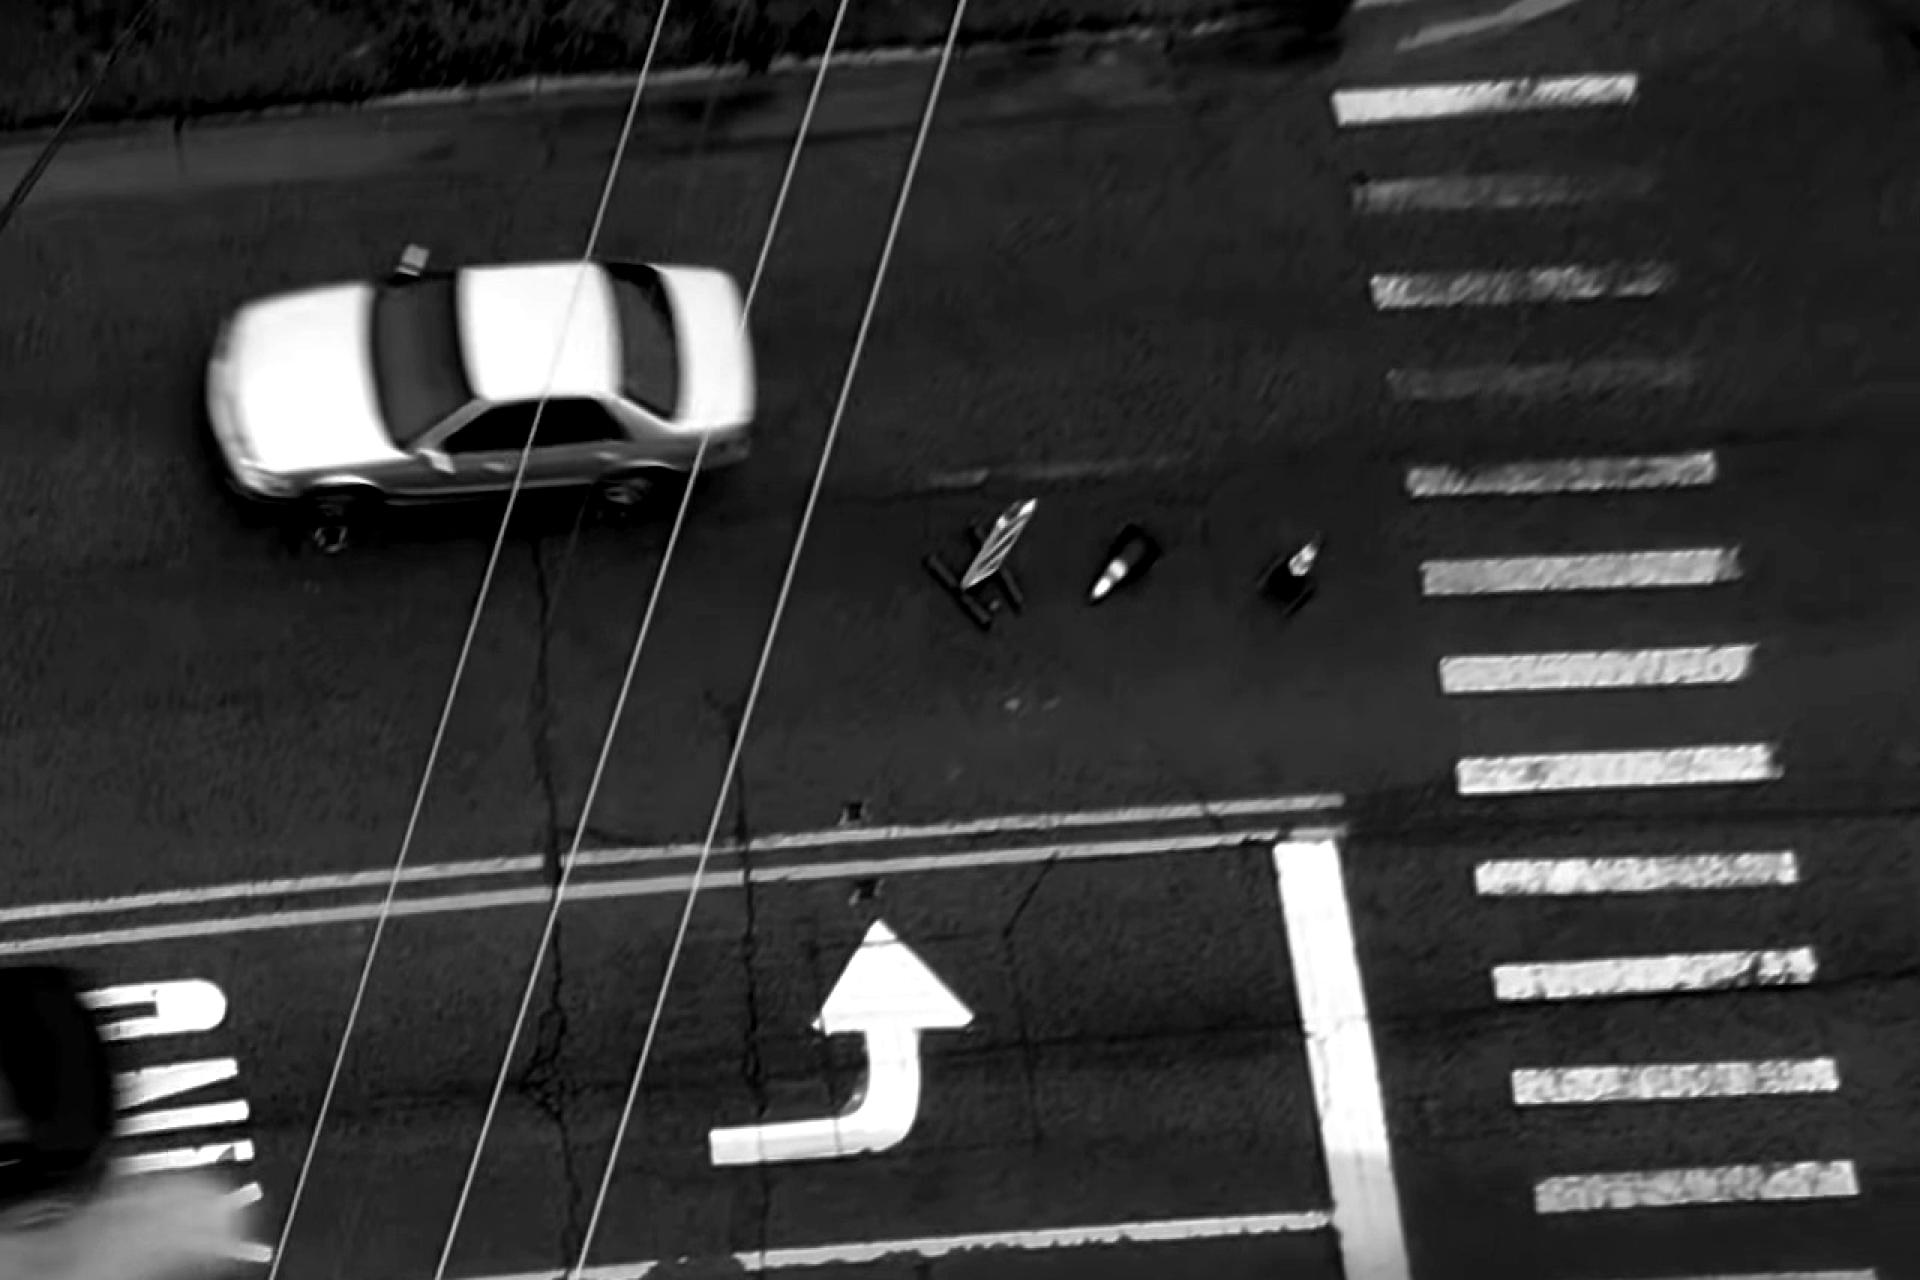Vehicle: (203, 241, 773, 529), (0, 959, 124, 1221)
